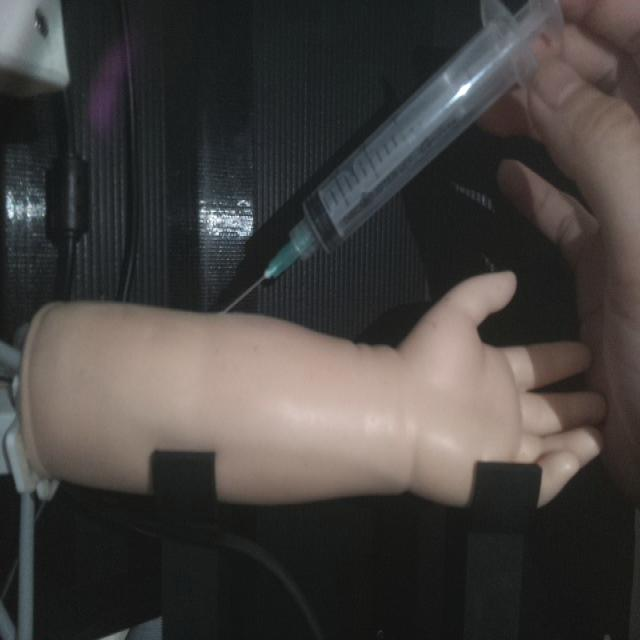Above 30 degrees: (217, 0, 566, 313)
